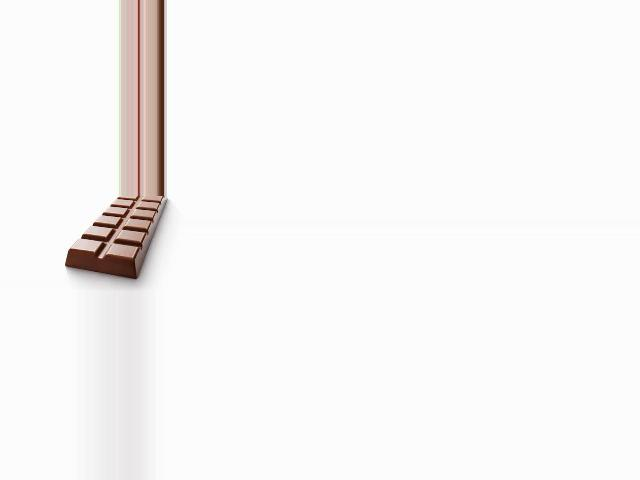chocolate: (64, 196, 173, 281)
